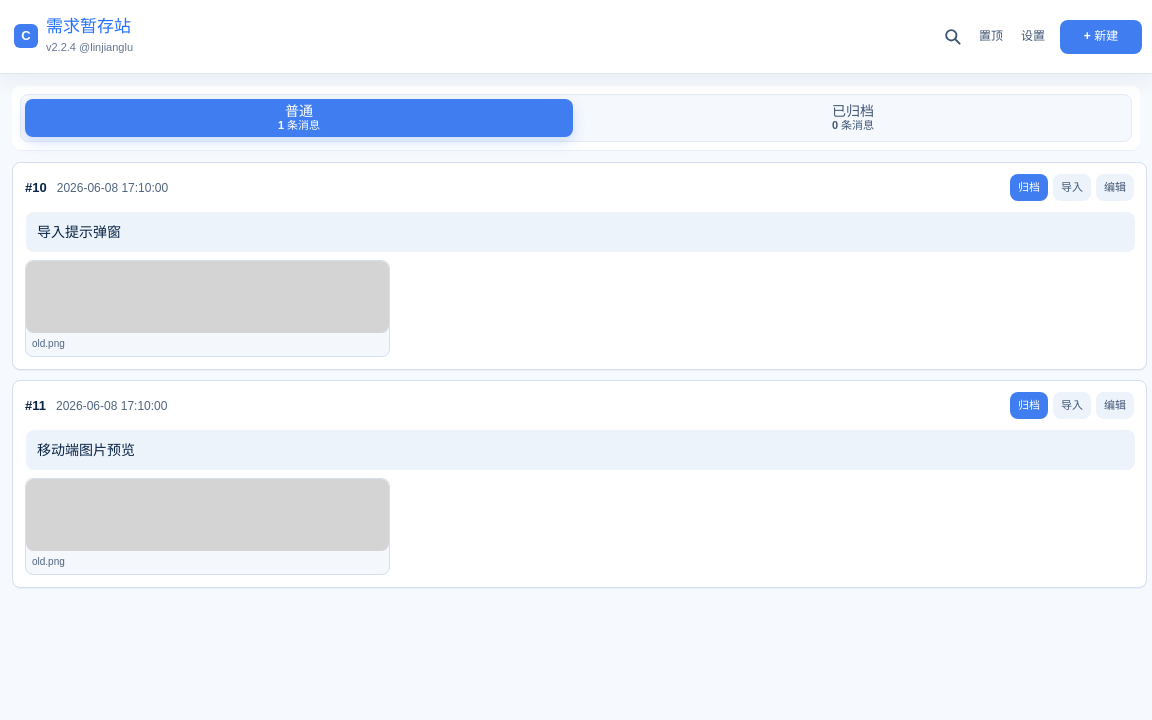
it: edit and delete guarded actions › searches messages from the top action
Expected: the text "#10" is shown, [25,179,47,198]
Expected: the text "移动端图片预览" is shown, [37,442,135,458]
Click the button named "搜索消息" at [953, 36], box [938,22,968,52]
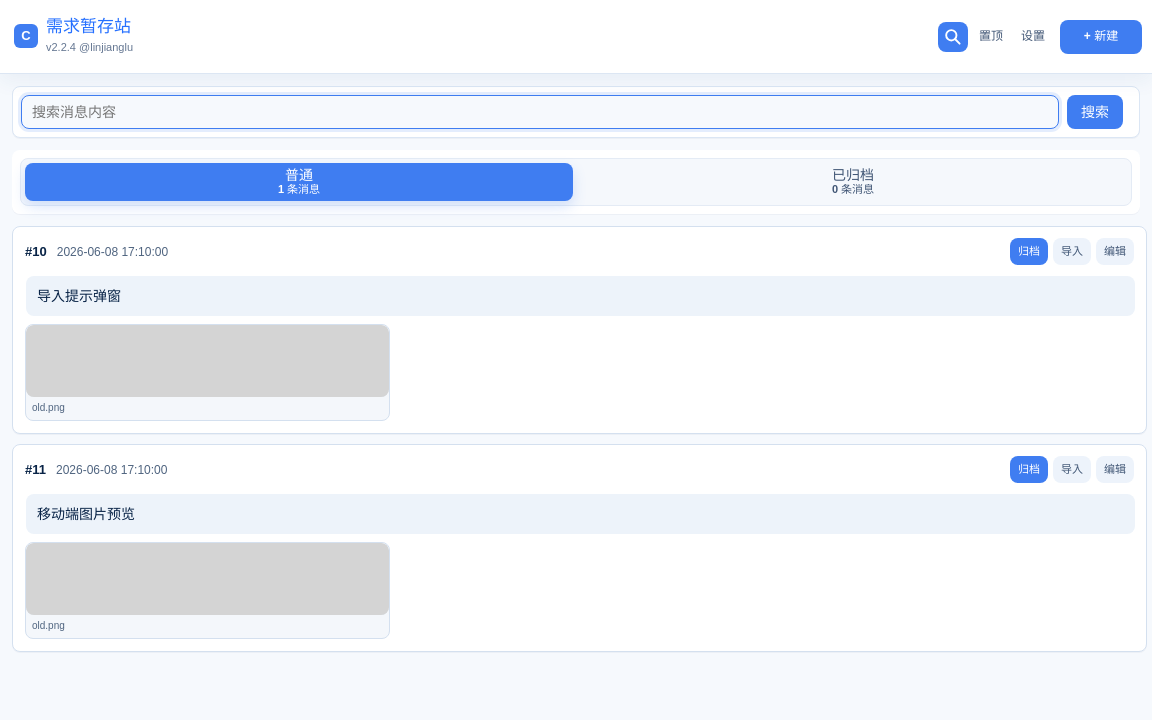
Type "预览" into the search field labelled "搜索消息内容" at [540, 112], box [21,95,1059,129]
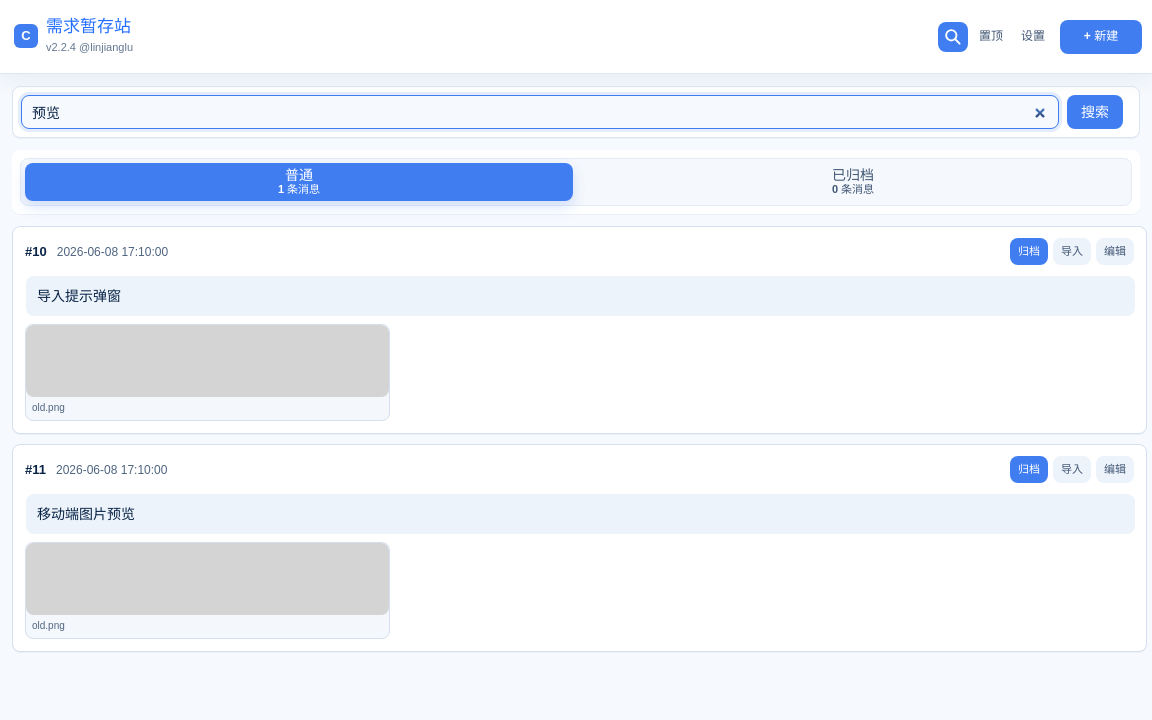
Click the button "搜索" at [1095, 112], box [1067,95,1123,129]
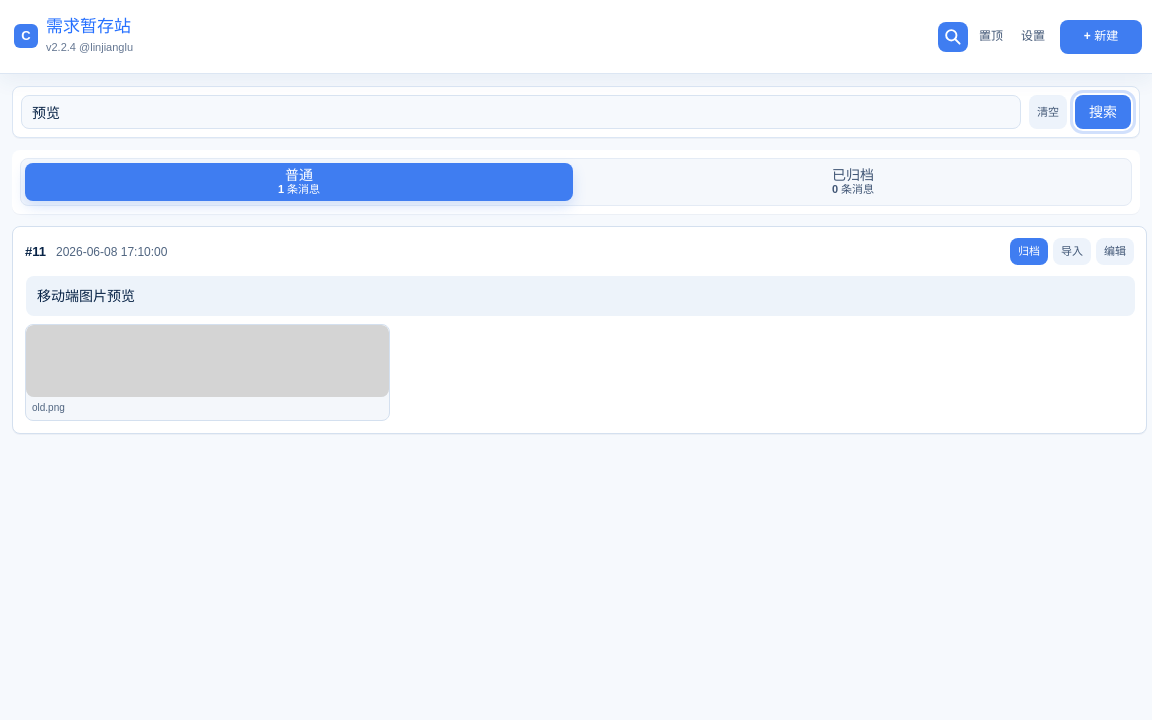
Expected: the text "#11" is shown, [25,243,46,262]
Now the button "导入提示弹窗" is gone
